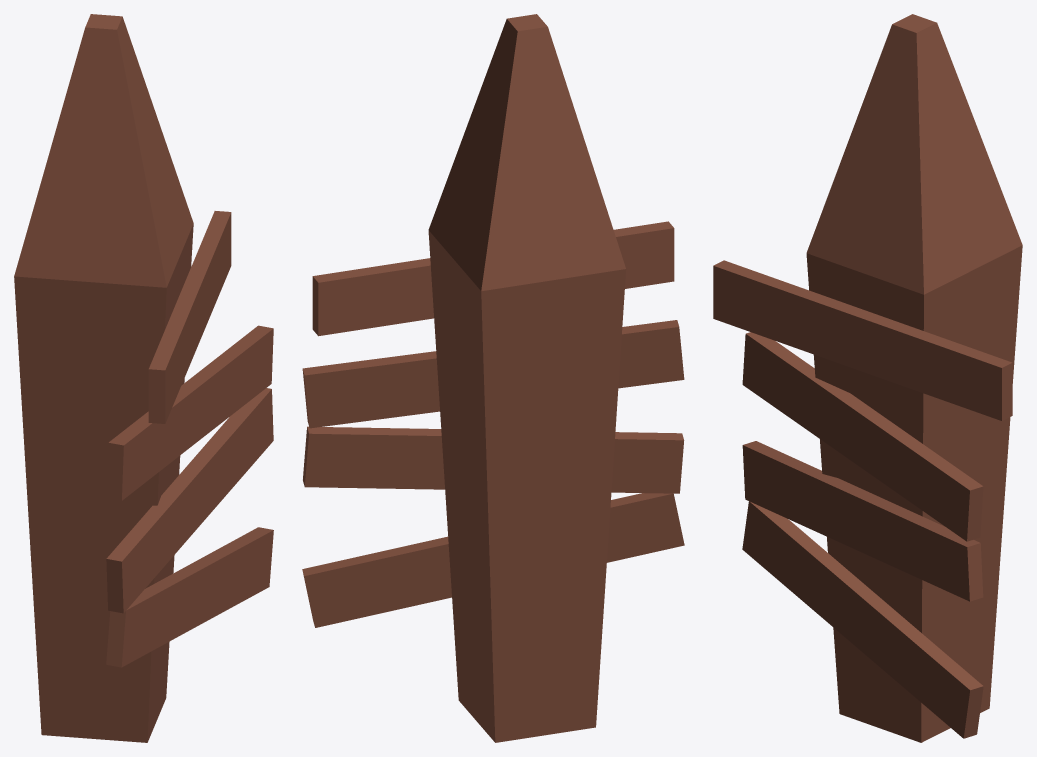
The model's file is SignBoard.glb.
3 views of the same model, side by side, from view 1: azimuth 30°, elevation 25°; view 2: azimuth 150°, elevation 25°; view 3: azimuth 270°, elevation 25° (orthographic).
Parts seen in each view (by area): view 1: Cube, Cube.008, Cube.007, Cube.009, Cube.004; view 2: Cube, Cube.009, Cube.008, Cube.007, Cube.004; view 3: Cube, Cube.004, Cube.009, Cube.007, Cube.008.
Boxes of the visible parts, <box> form: Cube: <box>14,14,193,742</box>; Cube.008: <box>106,388,273,613</box>; Cube.007: <box>106,325,273,500</box>; Cube.009: <box>106,527,273,667</box>; Cube.004: <box>148,211,231,423</box>; Cube: <box>428,14,626,742</box>; Cube.009: <box>302,493,684,627</box>; Cube.008: <box>303,426,684,493</box>; Cube.007: <box>302,320,684,428</box>; Cube.004: <box>312,221,674,336</box>; Cube: <box>806,14,1022,742</box>; Cube.004: <box>713,260,1012,420</box>; Cube.009: <box>742,501,983,738</box>; Cube.007: <box>742,332,983,541</box>; Cube.008: <box>742,441,983,601</box>.
Bounding box in the file's own units: 1.26 × 2.85 × 1.16.
